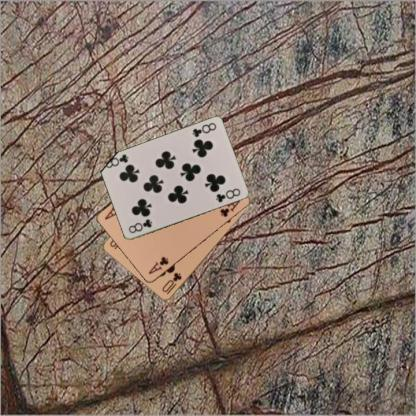10c: (160, 270, 183, 296)
8c: (126, 216, 154, 235), (190, 120, 217, 139)
Ac: (145, 254, 170, 276)
